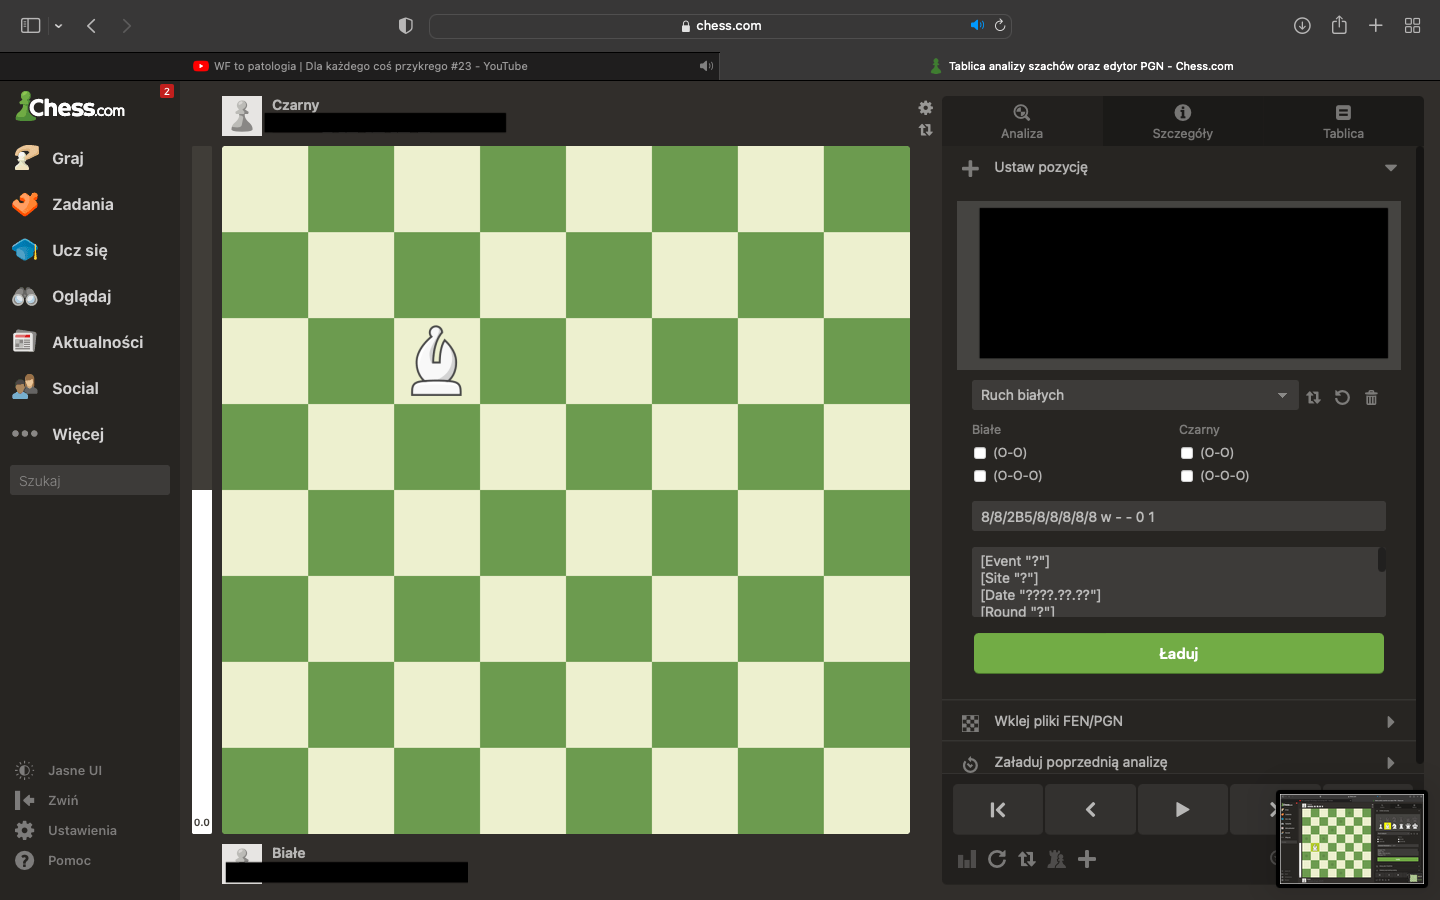white_bishop: (410, 324, 463, 397)
